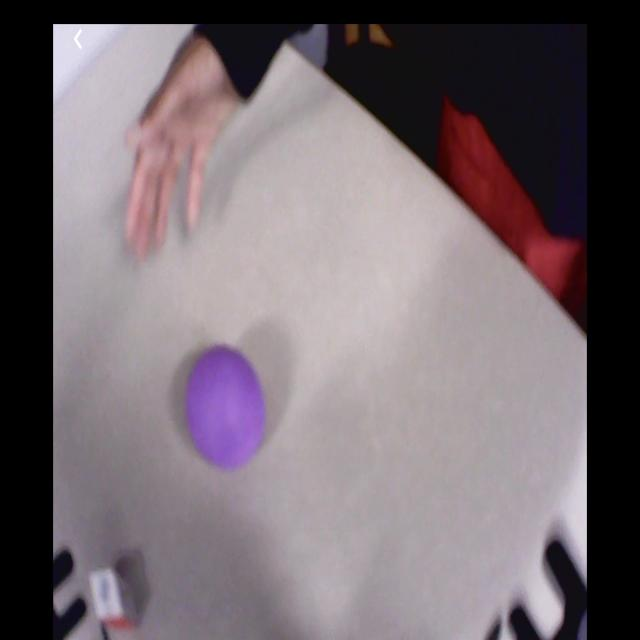ball: (184, 341, 269, 465)
